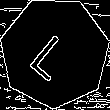L_NE: (27, 23, 82, 82)
